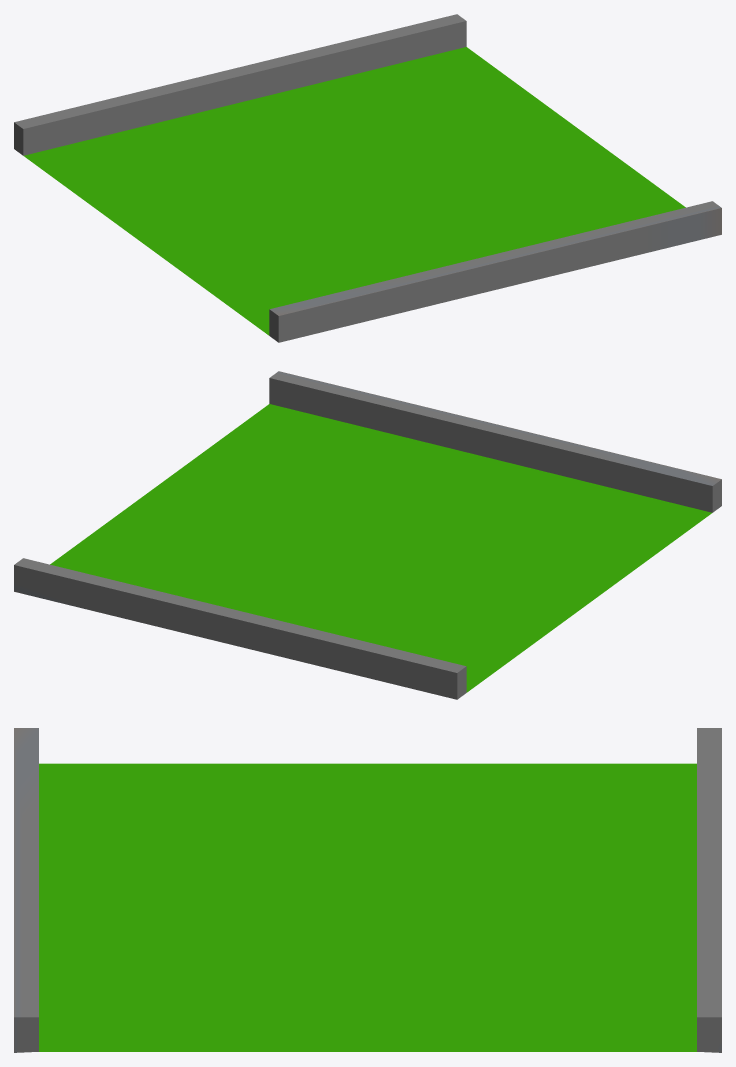
3 views of the same model, one above another, from view 1: azimuth 30°, elevation 25°; view 2: azimuth 150°, elevation 25°; view 3: azimuth 270°, elevation 25° (orthographic). The views are drawn at different scales.
Parts seen in each view (by area): view 1: SM_R_Gr3; view 2: SM_R_Gr3; view 3: SM_R_Gr3.
Boxes of the visible parts, box(x1,y1,x2,y2) form: SM_R_Gr3: box(14, 14, 721, 342); SM_R_Gr3: box(14, 371, 721, 699); SM_R_Gr3: box(14, 728, 721, 1052).
Bounding box in the file's own units: 1160 × 66.93 × 1200.
